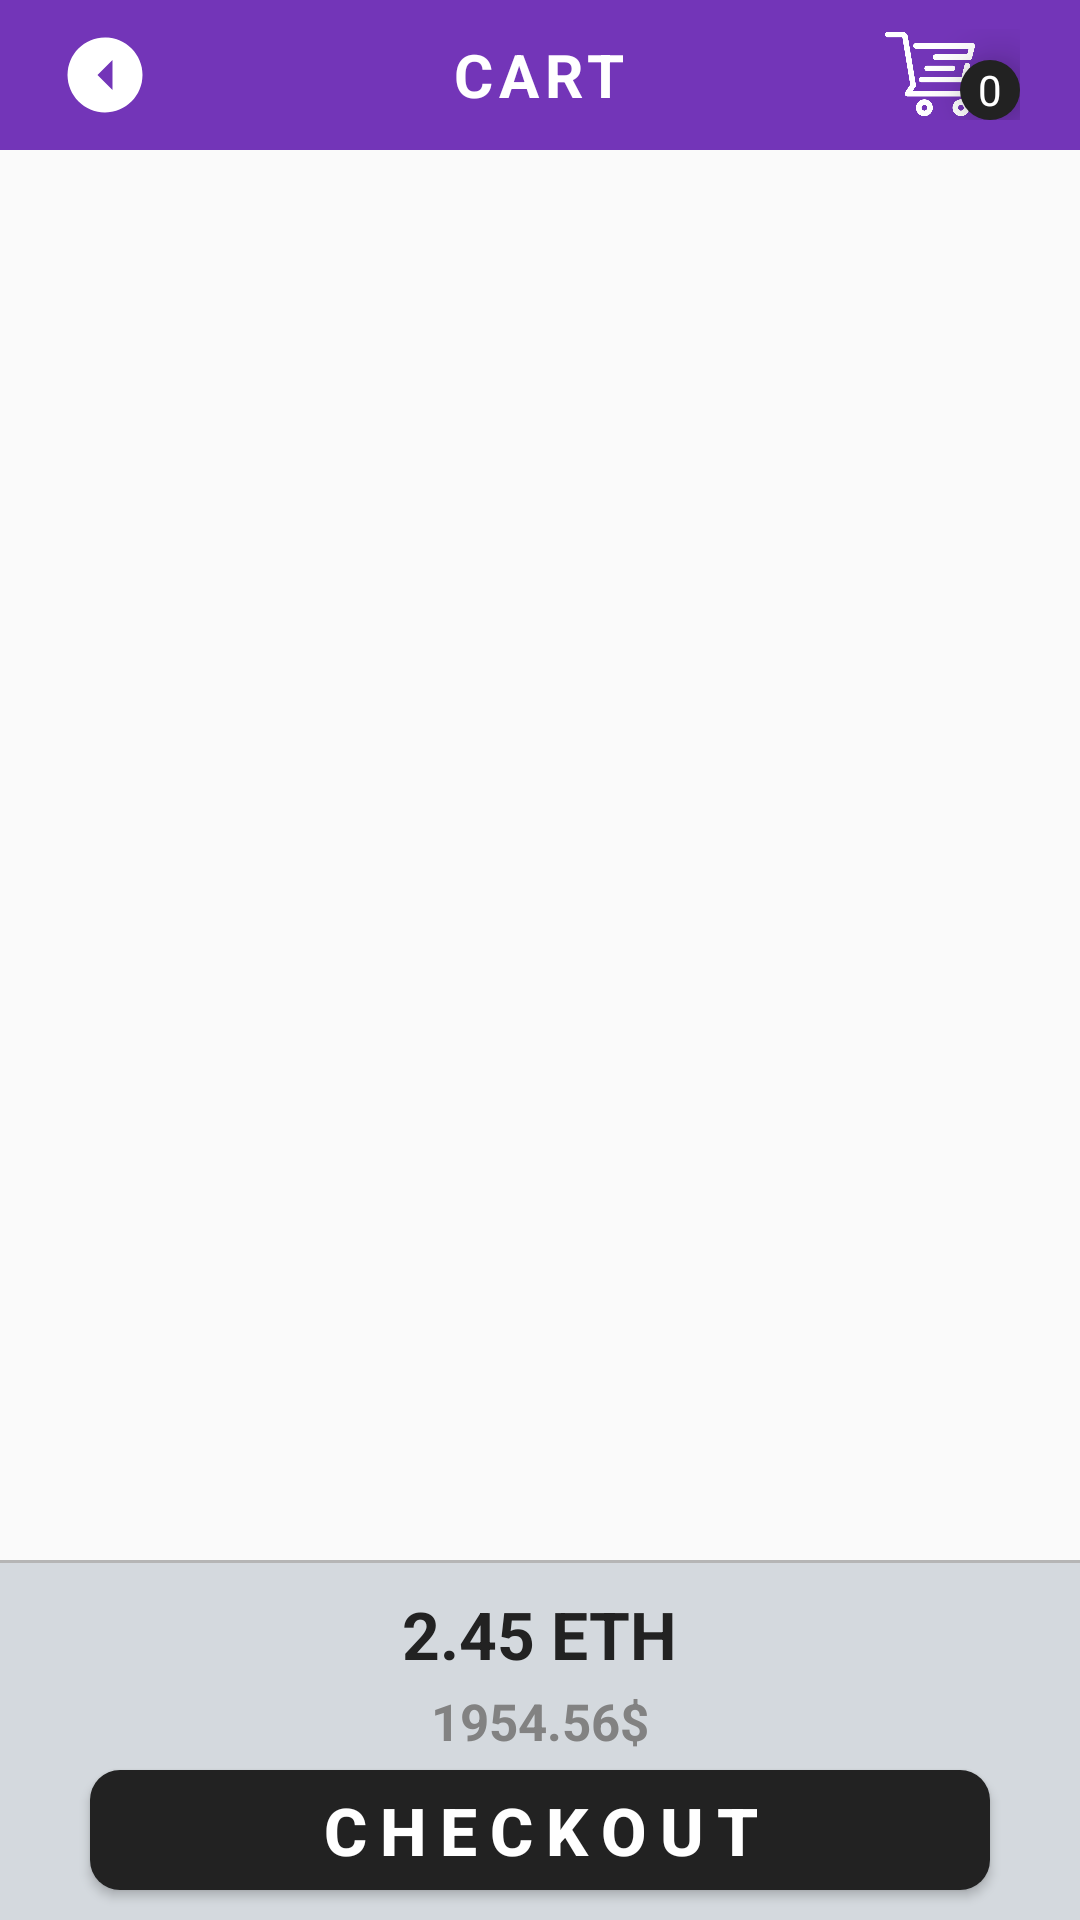

Locate icon controls on the screen. Image size 1080x1920, boxes as region(x1, y1, x2, y2).
floating cart: region(885, 32, 975, 116)
